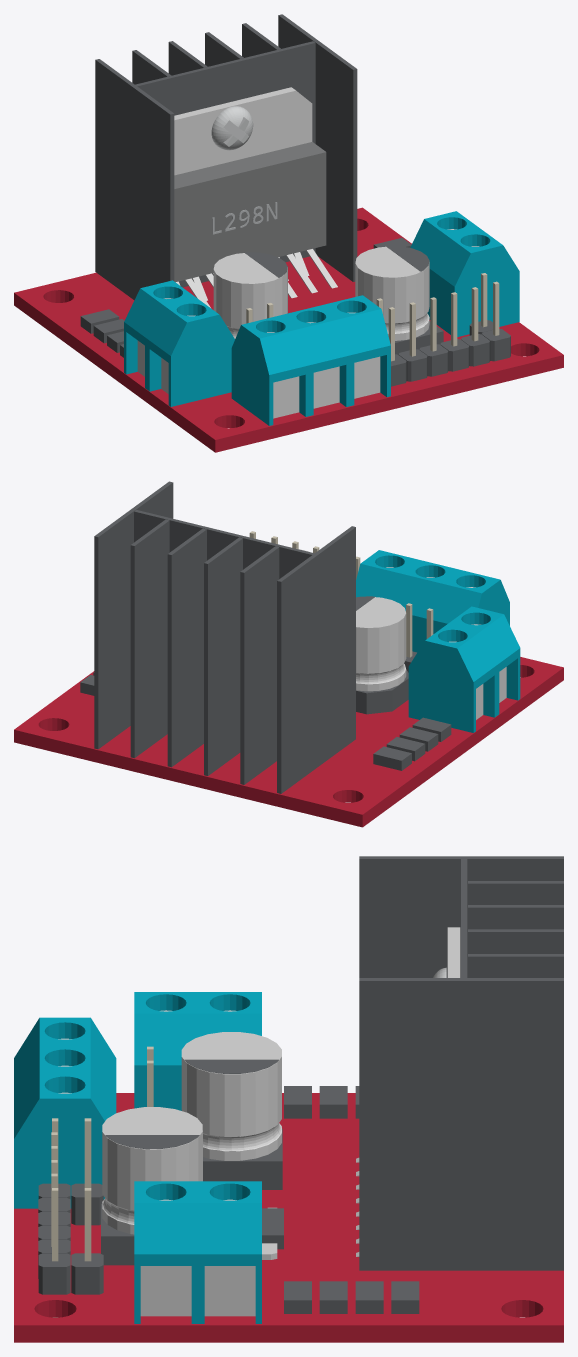
The model's file is Driver_moteur.glb.
The picture shows the model from 3 angles, top to bottom: view 1: azimuth 30°, elevation 25°; view 2: azimuth 150°, elevation 25°; view 3: azimuth 270°, elevation 25°; orthographic projection. The views are drawn at different scales.
Visible parts, largest first — view 1: Mesh_Mesh_head_geo.001_lambert2SG.001; view 2: Mesh_Mesh_head_geo.001_lambert2SG.001; view 3: Mesh_Mesh_head_geo.001_lambert2SG.001.
Boxes of the visible parts, x1,y1,x2,y2 form: Mesh_Mesh_head_geo.001_lambert2SG.001: (14,14,563,452); Mesh_Mesh_head_geo.001_lambert2SG.001: (14,481,563,827); Mesh_Mesh_head_geo.001_lambert2SG.001: (14,856,563,1342).
Bounding box in the file's own units: 0.0431 × 0.0274 × 0.043.
